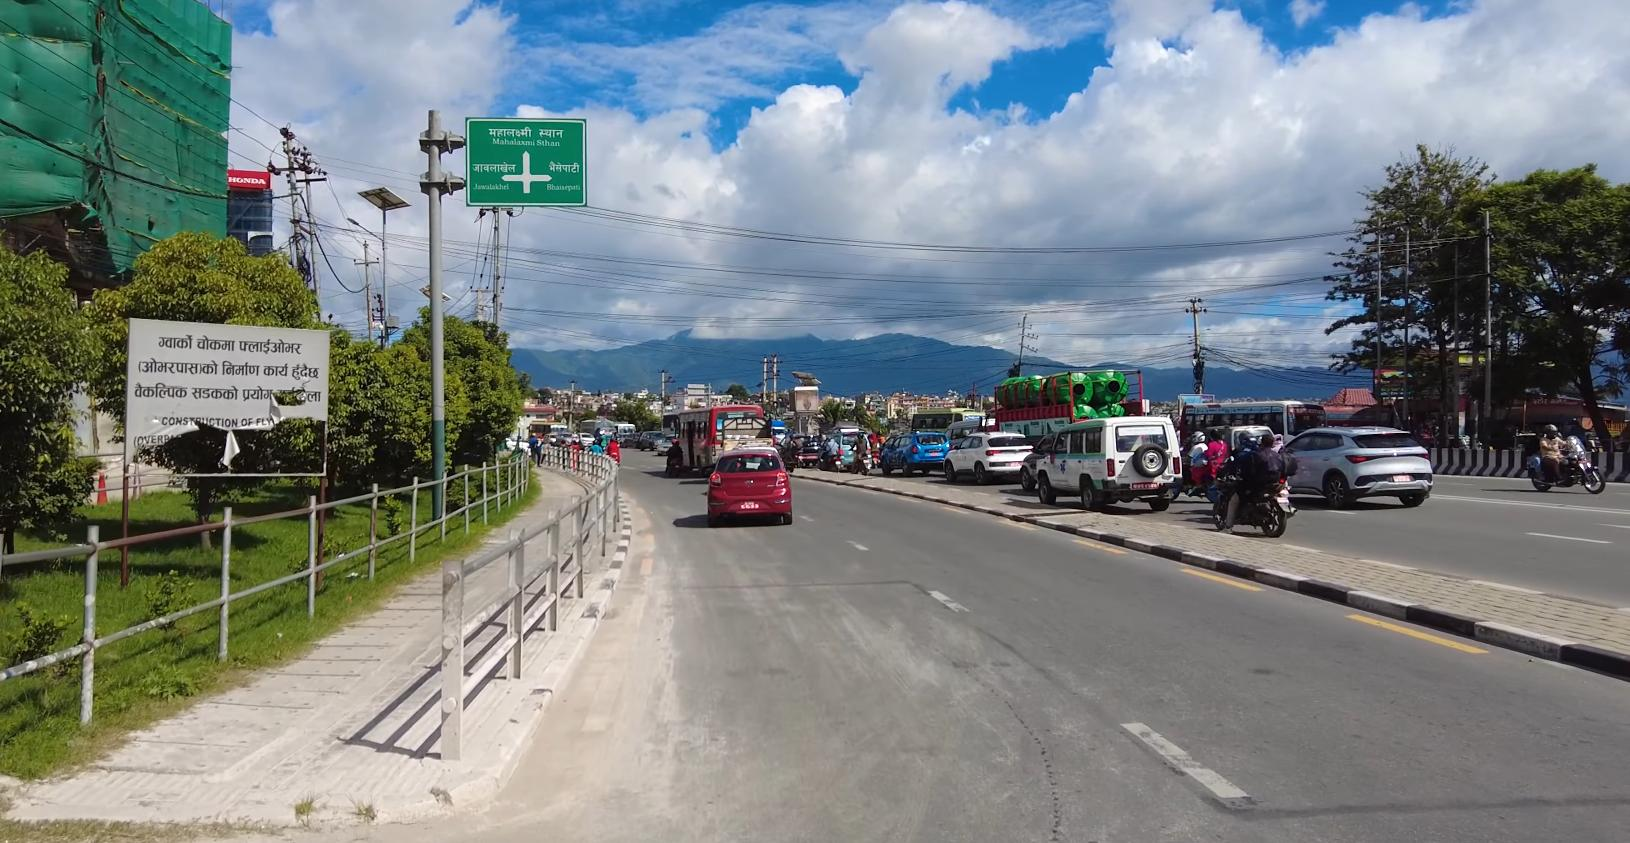ambulance: (1026, 415, 1184, 516)
bike: (1211, 455, 1298, 540), (1525, 434, 1607, 499)
bus: (668, 401, 766, 465)
car: (1274, 424, 1435, 514), (705, 447, 795, 528), (941, 429, 1038, 484), (878, 429, 950, 474)
